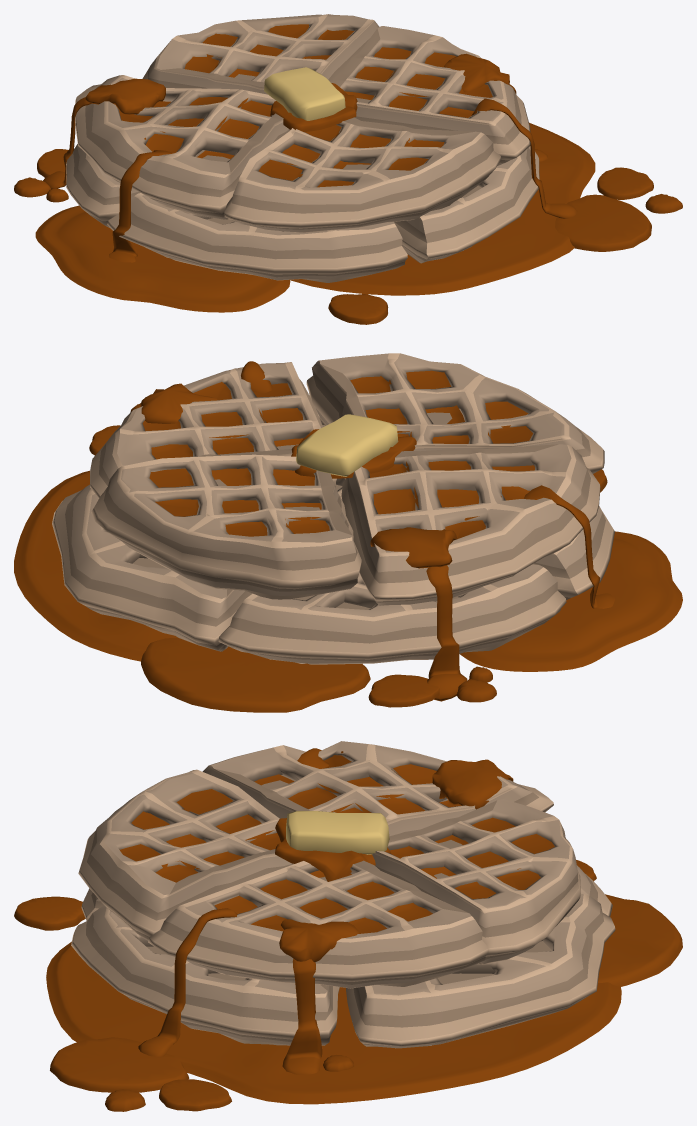
The model's file is pancakes.fbx.
3 views of the same model, one above another, from view 1: azimuth 30°, elevation 25°; view 2: azimuth 150°, elevation 25°; view 3: azimuth 270°, elevation 25° (orthographic). The views are drawn at different scales.
Visible parts, largest first — view 1: polySurface11, polySurface12, polySurface7, polySurface15, polySurface13, pCylinder7, pCylinder14, polySurface9, pCylinder8, pCube17, polySurface8, pCylinder18 (+10 smaller); view 2: polySurface13, polySurface12, polySurface8, polySurface11, polySurface15, polySurface6, pCylinder14, pCylinder15, pCylinder7, pCube17, polySurface7, polySurface18 (+7 smaller); view 3: pCylinder7, polySurface15, polySurface11, polySurface13, polySurface6, polySurface12, polySurface9, pCylinder8, pCylinder15, pCube17, polySurface16, pCylinder18 (+7 smaller).
Boxes of the visible parts, bbox=[...] form: polySurface11: bbox=[224, 117, 501, 232]; polySurface12: bbox=[75, 75, 290, 219]; polySurface7: bbox=[107, 193, 407, 282]; polySurface15: bbox=[331, 26, 530, 165]; polySurface13: bbox=[142, 14, 379, 94]; pCylinder7: bbox=[289, 122, 595, 295]; pCylinder14: bbox=[35, 205, 290, 312]; polySurface9: bbox=[394, 146, 539, 263]; pCylinder8: bbox=[555, 194, 651, 251]; pCube17: bbox=[264, 67, 345, 120]; polySurface8: bbox=[66, 144, 140, 227]; pCylinder18: bbox=[85, 78, 165, 114]; polySurface13: bbox=[91, 454, 361, 599]; polySurface12: bbox=[341, 444, 600, 605]; polySurface8: bbox=[218, 563, 566, 664]; polySurface11: bbox=[306, 353, 604, 479]; polySurface15: bbox=[90, 362, 336, 497]; polySurface6: bbox=[52, 484, 252, 651]; pCylinder14: bbox=[460, 531, 682, 671]; pCylinder15: bbox=[141, 637, 370, 712]; pCylinder7: bbox=[14, 470, 177, 661]; pCube17: bbox=[296, 414, 398, 476]; polySurface7: bbox=[534, 505, 614, 599]; polySurface18: bbox=[426, 565, 467, 701]; pCylinder7: bbox=[46, 941, 621, 1104]; polySurface15: bbox=[148, 860, 488, 988]; polySurface11: bbox=[78, 769, 293, 940]; polySurface13: bbox=[372, 799, 580, 964]; polySurface6: bbox=[346, 894, 615, 1048]; polySurface12: bbox=[202, 741, 553, 836]; polySurface9: bbox=[71, 905, 339, 1045]; pCylinder8: bbox=[50, 1037, 189, 1092]; pCylinder15: bbox=[598, 894, 682, 986]; pCube17: bbox=[286, 811, 389, 854]; polySurface16: bbox=[282, 958, 322, 1074]; pCylinder18: bbox=[432, 759, 508, 809].
Bounding box in the file's own units: 2.96 × 2.81 × 0.6537.
